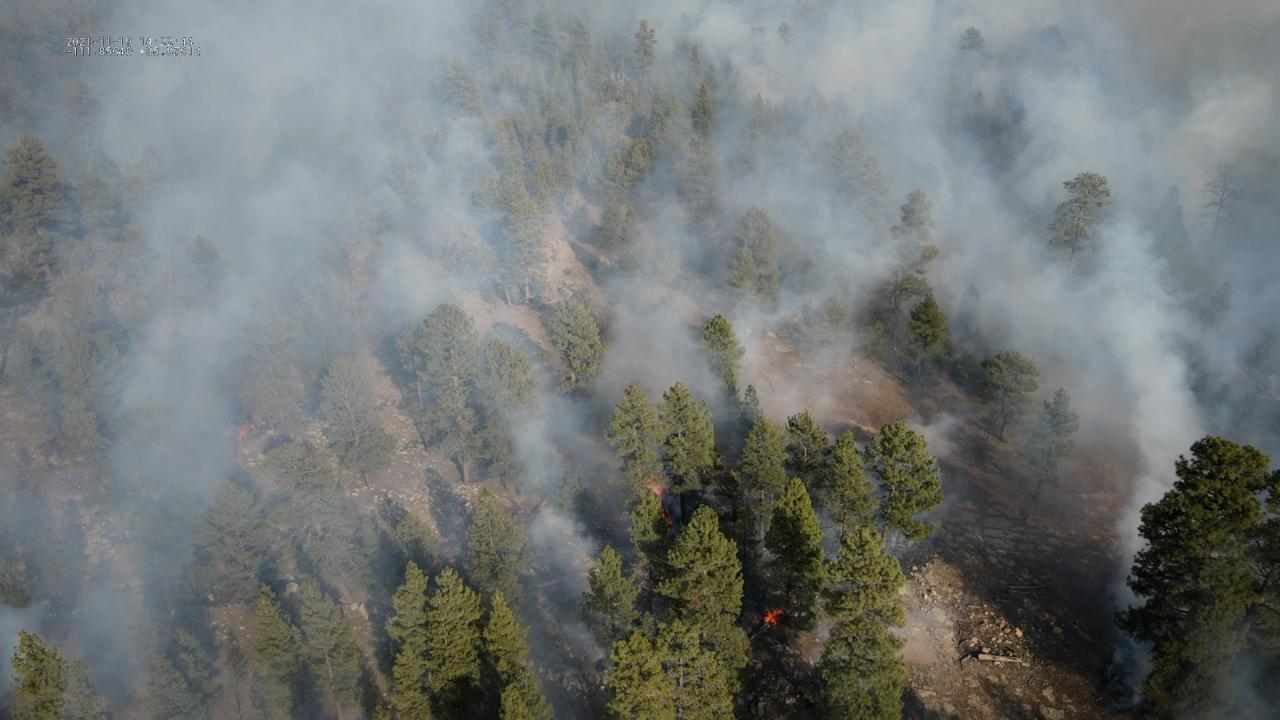fire: (642, 478, 674, 526), (763, 607, 784, 628), (237, 425, 249, 439)
smoke: (0, 0, 1280, 720)
